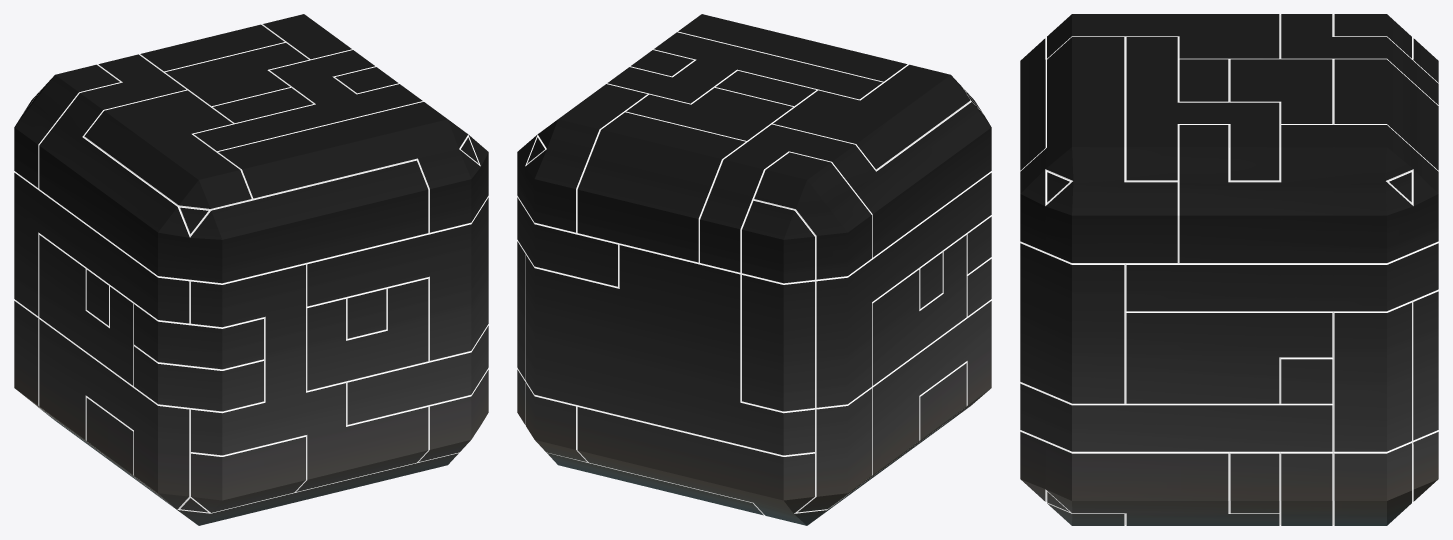
File: CyberPunkCubeShapeE.004.glb
3 views of the same model, side by side, from view 1: azimuth 30°, elevation 25°; view 2: azimuth 150°, elevation 25°; view 3: azimuth 270°, elevation 25° (orthographic). The views are drawn at different scales.
Parts seen in each view (by area): view 1: CyberPunkCubeShapeE.004; view 2: CyberPunkCubeShapeE.004; view 3: CyberPunkCubeShapeE.004.
Part boxes in pixels (bbox=[...]): CyberPunkCubeShapeE.004: bbox=[14, 14, 488, 525]; CyberPunkCubeShapeE.004: bbox=[517, 14, 991, 525]; CyberPunkCubeShapeE.004: bbox=[1020, 14, 1438, 525].
Size of what is drawn, in the model's own units: 0.7816 by 0.7816 by 0.7816.
Materials: 2 (2 with a texture image).
